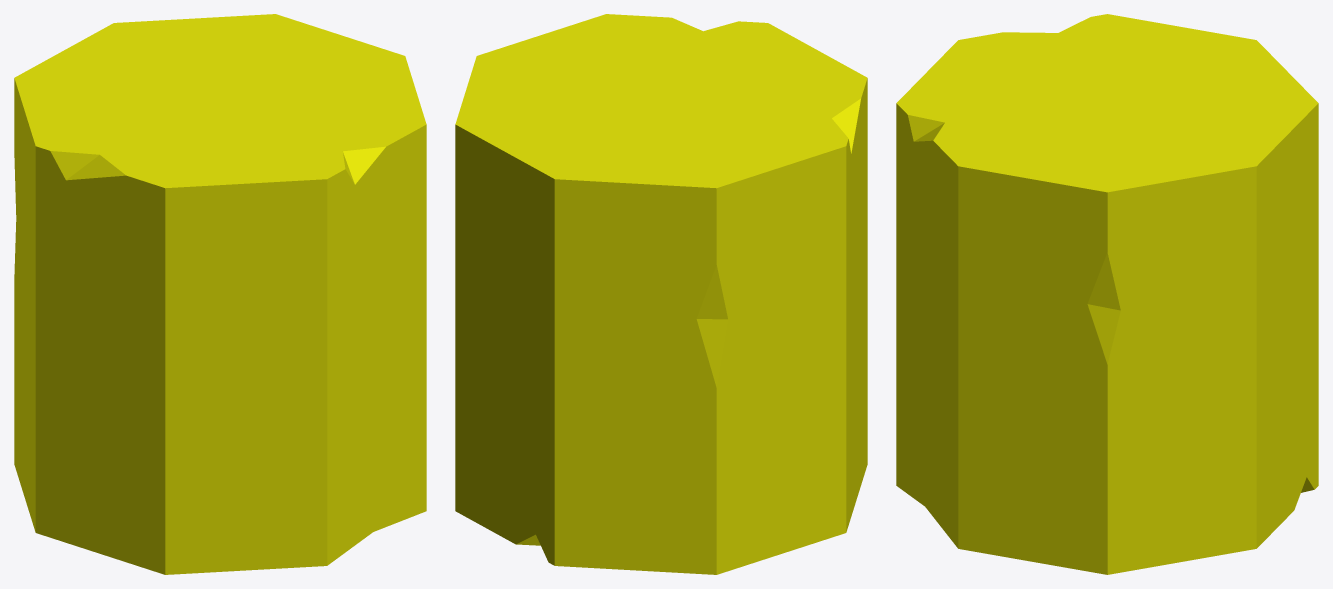
The model's file is SM_PolygonPrototype_Primitive_Cylander_01P.glb.
3 renders of one model, left to right at view 1: azimuth 30°, elevation 25°; view 2: azimuth 150°, elevation 25°; view 3: azimuth 270°, elevation 25°, orthographic.
Parts seen in each view (by area): view 1: SM_PolygonPrototype_Primitive_Cylander_01P; view 2: SM_PolygonPrototype_Primitive_Cylander_01P; view 3: SM_PolygonPrototype_Primitive_Cylander_01P.
Part boxes in pixels (x1,y1,x2,y2): SM_PolygonPrototype_Primitive_Cylander_01P: (14,14,426,574); SM_PolygonPrototype_Primitive_Cylander_01P: (455,14,867,574); SM_PolygonPrototype_Primitive_Cylander_01P: (896,14,1318,574).
Bounding box in the file's own units: 1 × 1 × 1.
1 material, 1 textured.
